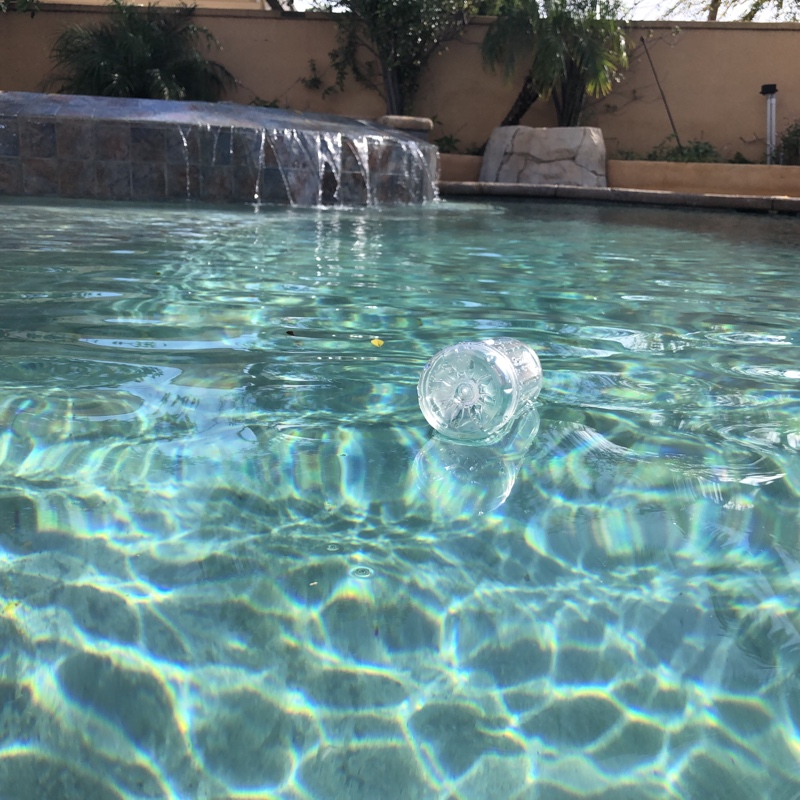Plastic Bottle: (410, 333, 547, 450)
